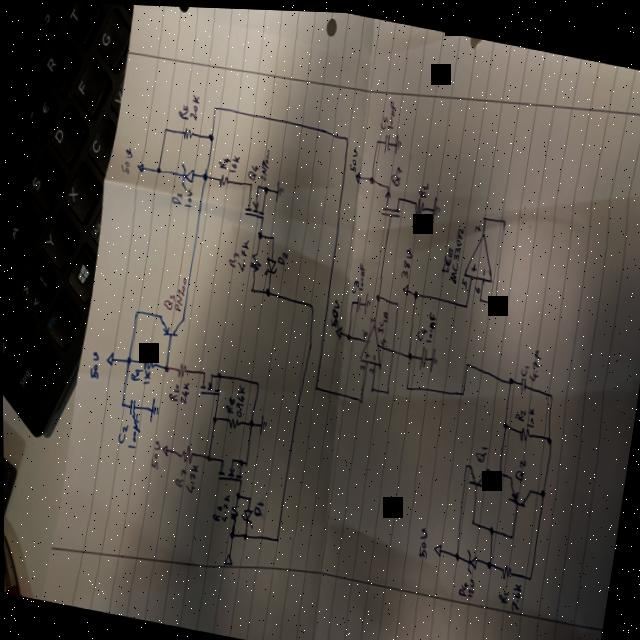capacitor: (417, 343, 427, 368), (381, 131, 390, 152), (517, 371, 526, 390), (126, 398, 135, 416), (354, 293, 361, 311)
crossover: (387, 344, 394, 355)
diode: (176, 162, 194, 193), (461, 544, 477, 572), (237, 506, 254, 528), (261, 255, 277, 275)
ground: (145, 396, 160, 427), (428, 191, 441, 223), (426, 343, 438, 374), (272, 178, 284, 203), (361, 289, 371, 314), (391, 130, 401, 153), (257, 412, 266, 435)
junction: (366, 172, 375, 185), (451, 548, 458, 561), (404, 348, 412, 359), (206, 131, 213, 143), (461, 298, 468, 310), (499, 212, 506, 224), (411, 287, 418, 298), (153, 164, 160, 175), (209, 413, 216, 424), (124, 355, 131, 366), (499, 417, 506, 428), (246, 417, 253, 428), (484, 556, 491, 567), (537, 485, 544, 496), (255, 229, 262, 240), (544, 432, 551, 443), (486, 522, 493, 533), (506, 373, 513, 384), (373, 290, 380, 301), (200, 170, 207, 181), (263, 286, 270, 297), (227, 529, 234, 540), (271, 533, 278, 544), (367, 382, 374, 393), (214, 369, 221, 380), (307, 300, 313, 311), (495, 465, 501, 475), (382, 385, 388, 395), (233, 490, 239, 500), (480, 211, 486, 221), (240, 530, 246, 540), (204, 453, 210, 462), (132, 308, 138, 317), (163, 363, 168, 373), (463, 357, 468, 367), (343, 132, 348, 142), (118, 399, 123, 409), (344, 330, 349, 340), (394, 295, 399, 305), (374, 135, 379, 144), (162, 125, 167, 134), (468, 516, 473, 525), (507, 529, 512, 538), (526, 571, 531, 580), (457, 386, 462, 395), (403, 381, 408, 390), (547, 388, 552, 397), (211, 103, 216, 112), (463, 459, 468, 468), (356, 394, 361, 403), (248, 285, 253, 293), (312, 383, 317, 391), (253, 379, 258, 387), (268, 232, 273, 240), (245, 494, 250, 502), (476, 293, 481, 301), (491, 296, 496, 303), (243, 459, 246, 467), (349, 297, 352, 303)
resistor: (177, 442, 194, 465), (497, 559, 512, 580), (246, 252, 260, 273), (411, 193, 424, 215), (515, 421, 529, 440), (141, 354, 155, 372), (224, 414, 238, 431), (226, 502, 238, 521), (174, 361, 186, 379), (216, 172, 228, 189), (180, 126, 193, 141)
source: (104, 350, 114, 367), (431, 539, 441, 555), (332, 323, 341, 338), (159, 442, 168, 456), (400, 280, 408, 295), (352, 168, 360, 183), (134, 161, 143, 173)
terminal: (222, 552, 232, 567)
text: (446, 223, 464, 282), (124, 412, 141, 452), (526, 344, 542, 380), (172, 274, 187, 312), (234, 237, 249, 272), (414, 523, 429, 557), (398, 243, 412, 279), (257, 146, 271, 182), (231, 382, 245, 418), (86, 350, 101, 382), (423, 309, 436, 345), (507, 578, 522, 609), (183, 461, 197, 494), (118, 146, 133, 176), (439, 242, 453, 273), (384, 97, 397, 129), (353, 259, 366, 291), (148, 439, 161, 470), (327, 297, 340, 328), (218, 491, 230, 524), (471, 440, 488, 461), (512, 455, 526, 480), (347, 143, 359, 172), (187, 92, 199, 121), (375, 308, 387, 336), (388, 162, 402, 186), (177, 379, 189, 405), (115, 422, 128, 445), (172, 466, 185, 489), (209, 501, 222, 523), (165, 381, 178, 403), (415, 178, 429, 197), (226, 153, 239, 173), (245, 163, 259, 181), (175, 102, 189, 120), (464, 572, 474, 597), (523, 404, 534, 426), (161, 291, 174, 309), (225, 250, 238, 268), (182, 187, 193, 208), (454, 577, 466, 596), (215, 154, 229, 170), (127, 367, 141, 383), (494, 586, 508, 602), (512, 403, 525, 420), (223, 394, 234, 414), (251, 500, 263, 517), (413, 324, 425, 341), (275, 248, 287, 263), (349, 274, 358, 293), (378, 112, 388, 129), (169, 191, 181, 205), (141, 369, 150, 386), (518, 359, 528, 374), (459, 274, 467, 289), (377, 333, 386, 345), (472, 220, 481, 231), (359, 326, 366, 337), (472, 282, 479, 291), (366, 364, 373, 373), (367, 314, 374, 322), (357, 362, 364, 370)
transistor: (242, 181, 267, 220), (378, 181, 403, 217), (197, 365, 222, 400), (215, 454, 243, 484), (155, 310, 183, 340), (502, 477, 529, 505), (464, 458, 488, 486)
